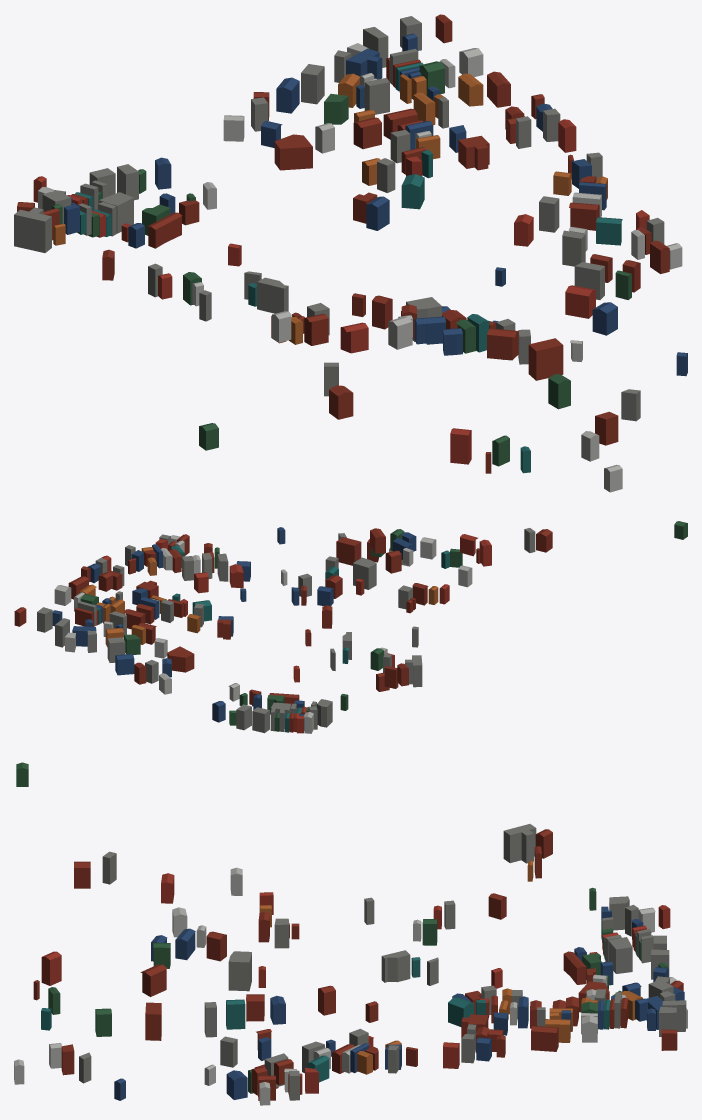
The model's file is near-16-54720-29744.ecde81be.glb.
3 renders of one model, top to bottom at view 1: azimuth 30°, elevation 25°; view 2: azimuth 150°, elevation 25°; view 3: azimuth 270°, elevation 25°, orthographic. The views are drawn at different scales.
Bounding box in the file's own units: 551 × 138 × 591.
